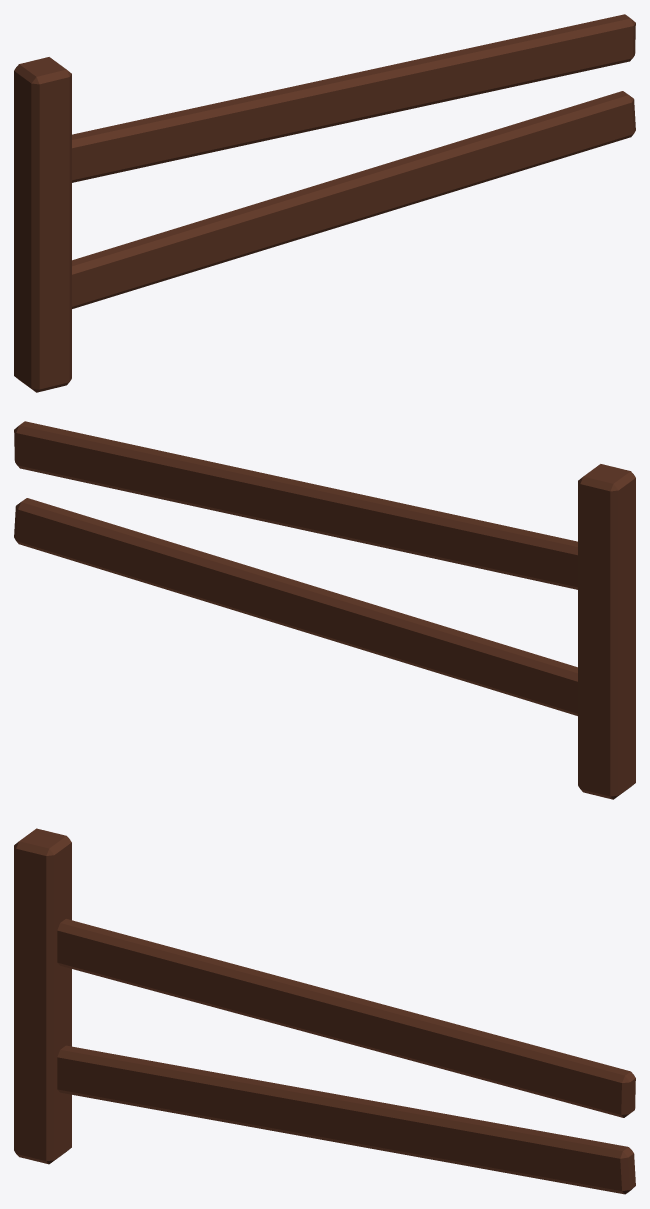
File: fence.glb
3 renders of one model, top to bottom at view 1: azimuth 30°, elevation 25°; view 2: azimuth 150°, elevation 25°; view 3: azimuth 330°, elevation 25°, orthographic.
Parts seen in each view (by area): view 1: fence-col; view 2: fence-col; view 3: fence-col.
Boxes of the visible parts, box(x1,y1,x2,y2) form: fence-col: box(14, 14, 635, 392); fence-col: box(14, 421, 635, 799); fence-col: box(14, 828, 635, 1194).
Size of the model in its own units: 4.04 by 2 by 0.2678.
